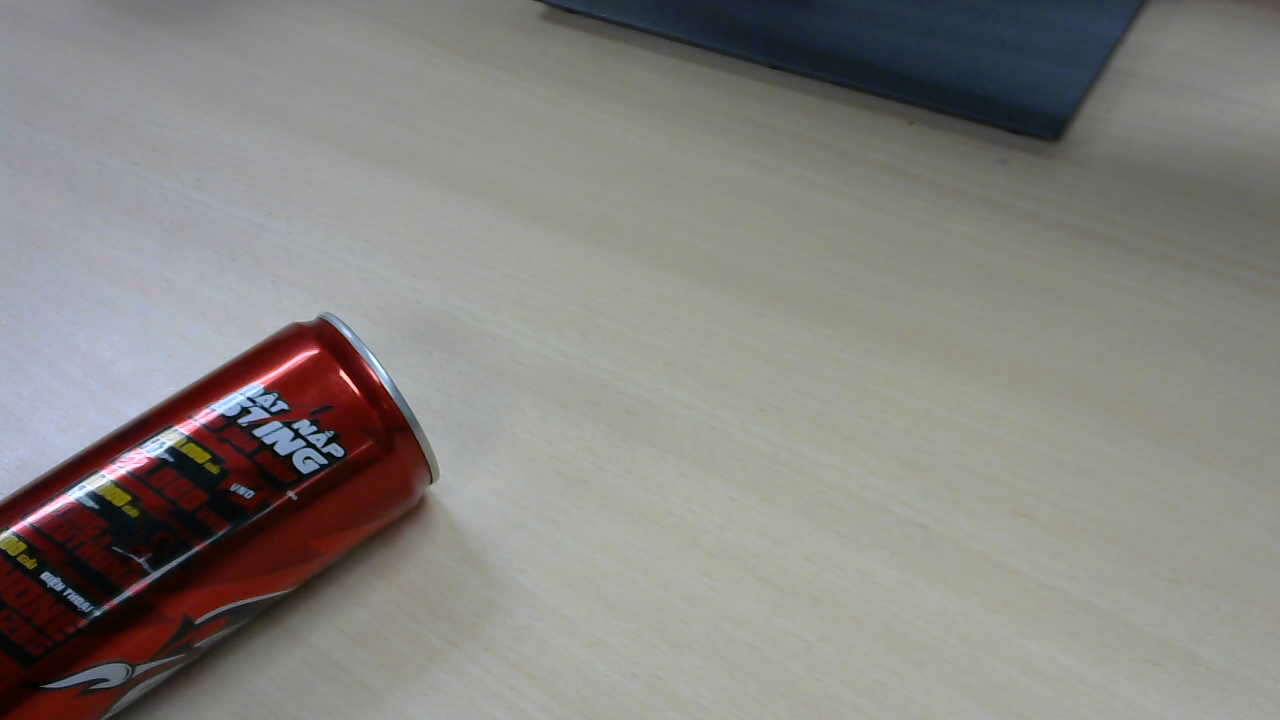Sting: (4, 317, 445, 697)
